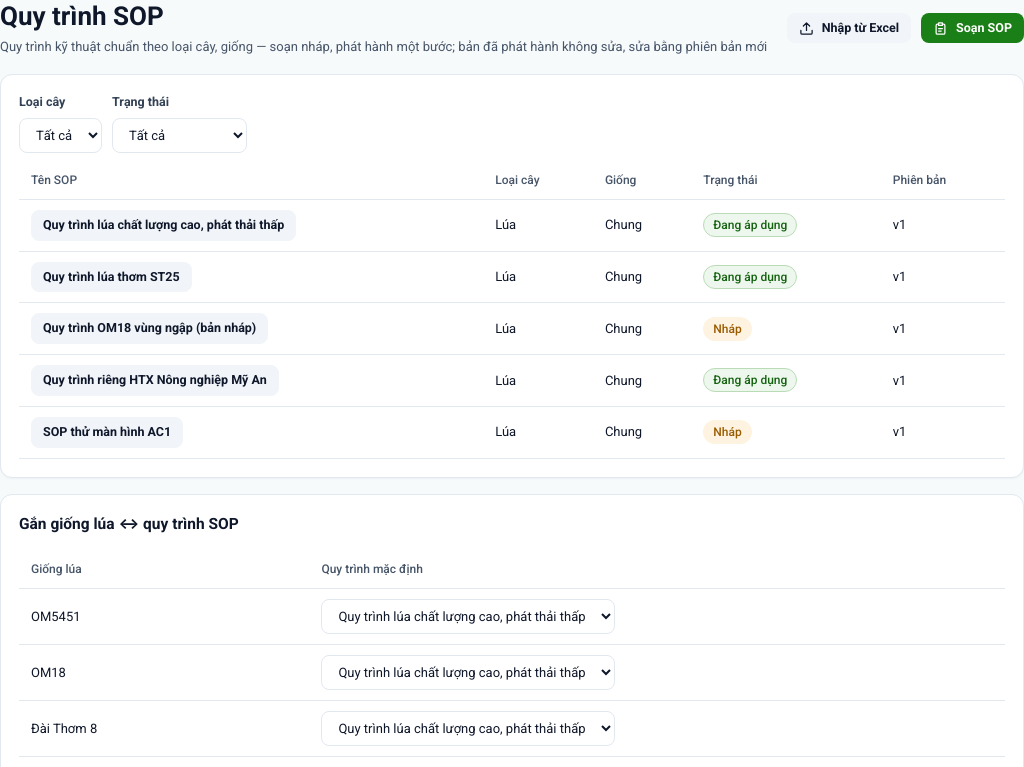
Màn Quy trình SOP (AH-8) › AC2: máy chủ từ chối theo trường → đúng ô tô đỏ kèm lý do, mọi ô giữ nguyên
This screenshot has width=1024, height=767.
Click the button "Soạn SOP": (973, 28) [921,13,1023,43]
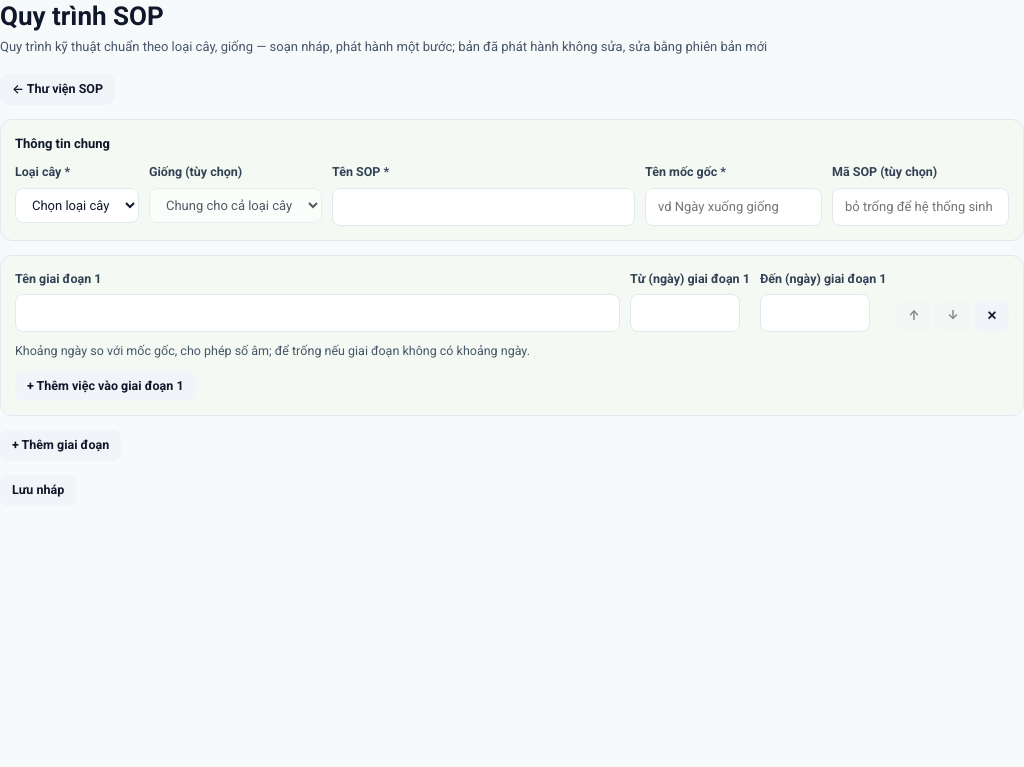
Expected: the element "Thông tin chung" is shown, [0,119,1023,241]
Select "Lúa" in the dropdown labelled "Loại cây *": (77, 206) [15,188,139,223]
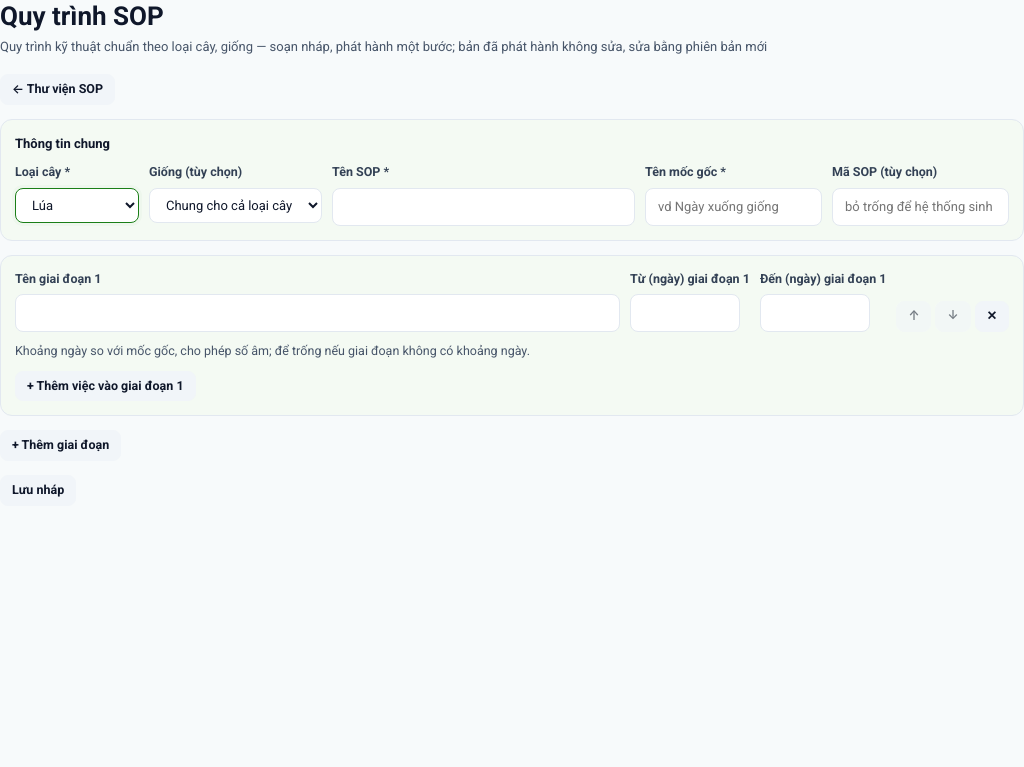
In the field labelled "Tên SOP *": (484, 207) [332,188,635,226], type "SOP thử lỗi máy chủ"
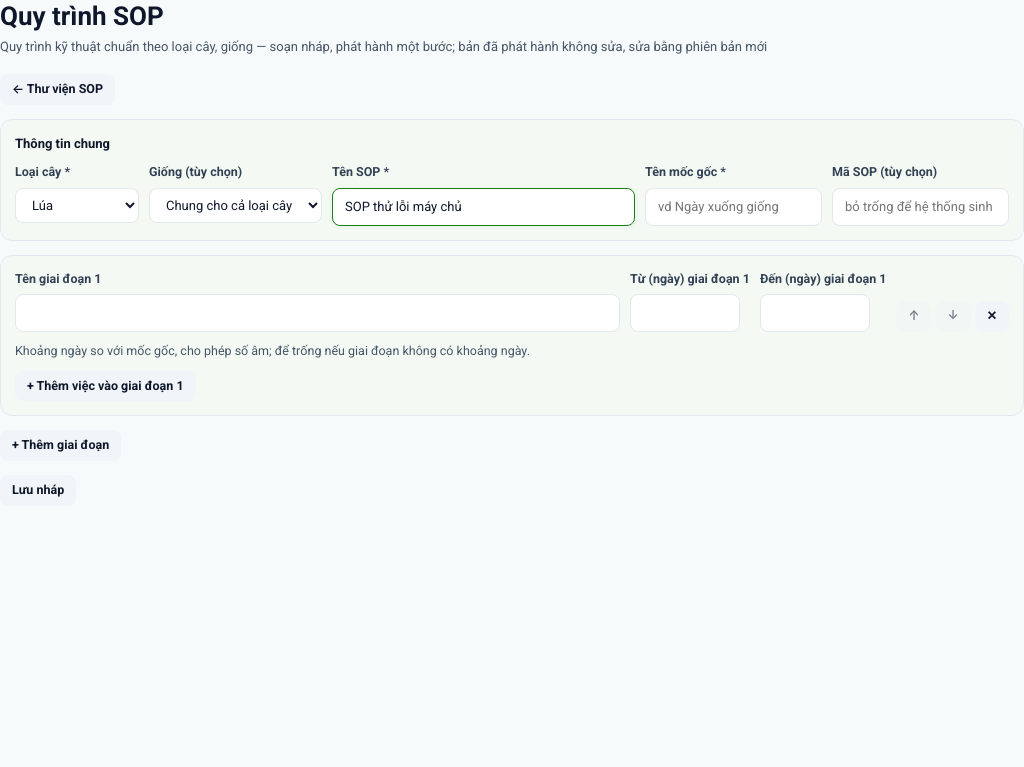
In the field labelled "Tên mốc gốc *": (734, 207) [645,188,822,226], type "Ngày xuống giống"
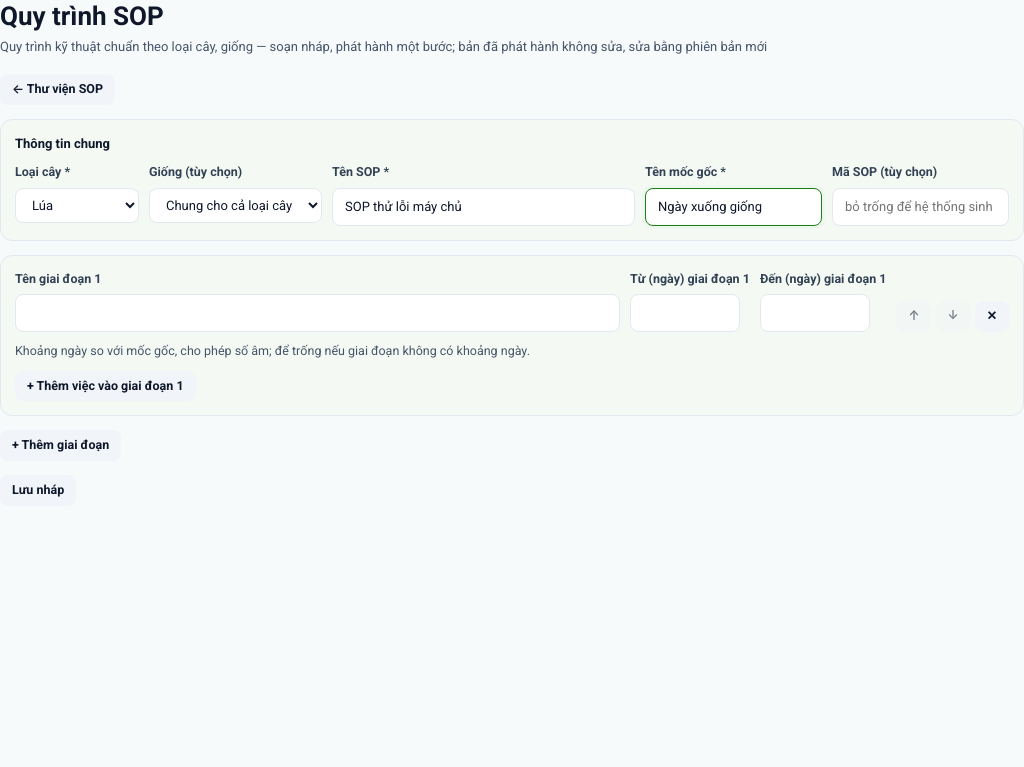
In the field labelled "Tên giai đoạn 1": (318, 313) [15,294,620,332], type "Chuẩn bị"
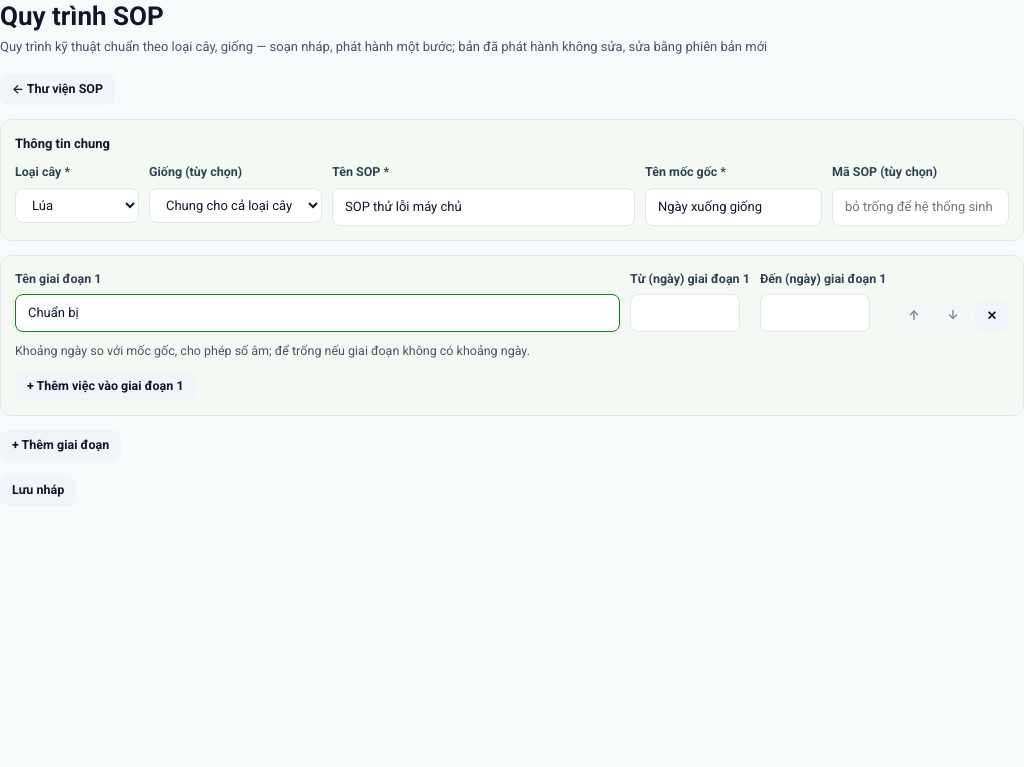
Click the button "Lưu nháp": (38, 490) [0,475,76,506]
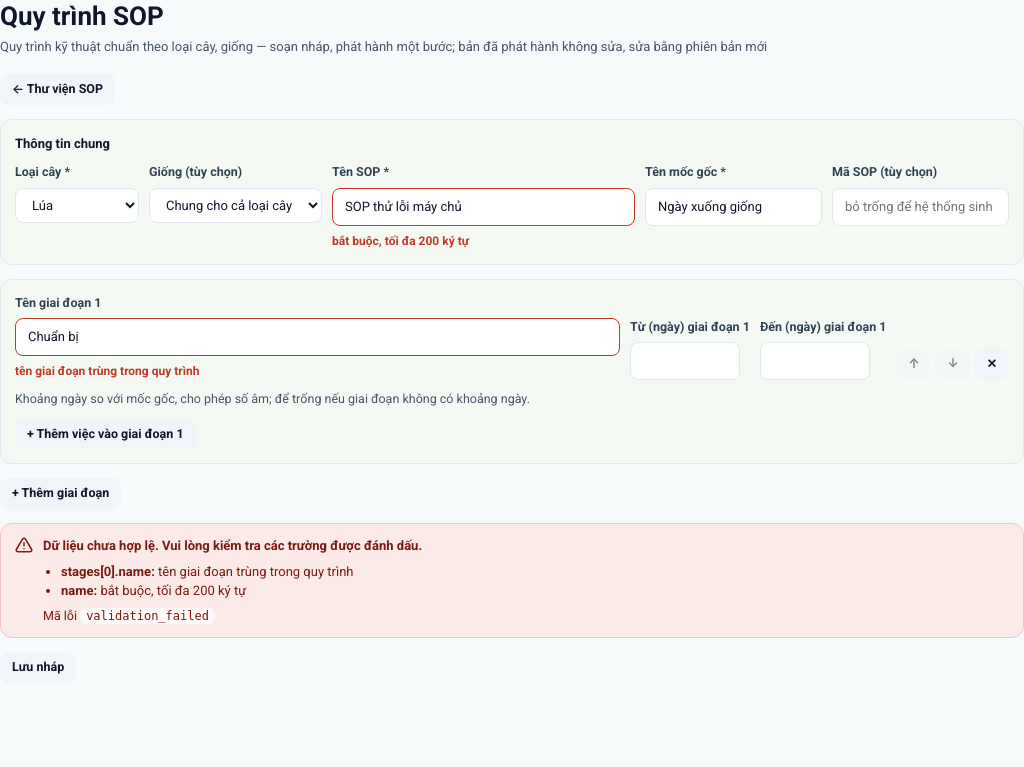
Expected: the text "tên giai đoạn trùng trong quy trình" is shown, [15,364,199,378]
